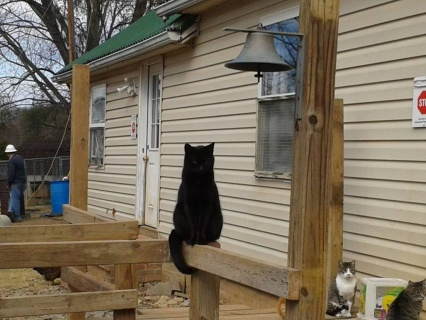Cat: (168, 140, 223, 276)
